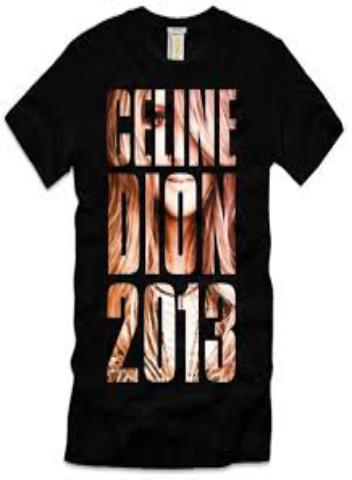CELINE: (101, 72, 242, 172)
